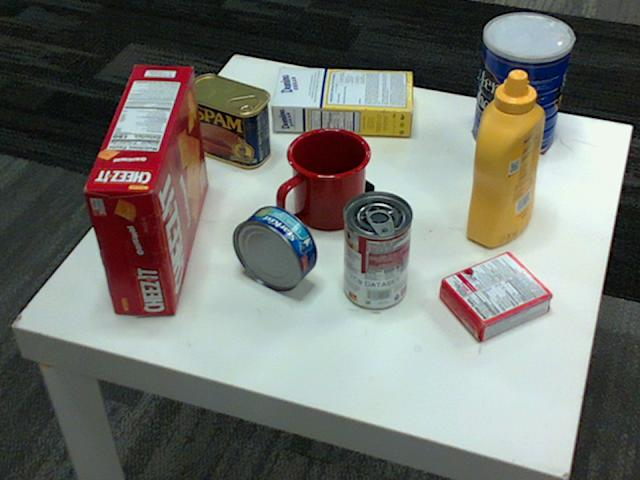cracker_box: (83, 62, 209, 312)
gelatin_box: (438, 252, 553, 342)
large_marker: (303, 140, 372, 196)
master_chef_can: (471, 13, 572, 157)
mug: (280, 125, 372, 228)
mustard_bottle: (465, 70, 545, 246)
potted_meat_can: (182, 75, 271, 168)
sugar_box: (272, 67, 414, 135)
tomato_soup_can: (343, 191, 413, 309)
tuna_fish_can: (234, 206, 318, 291)
